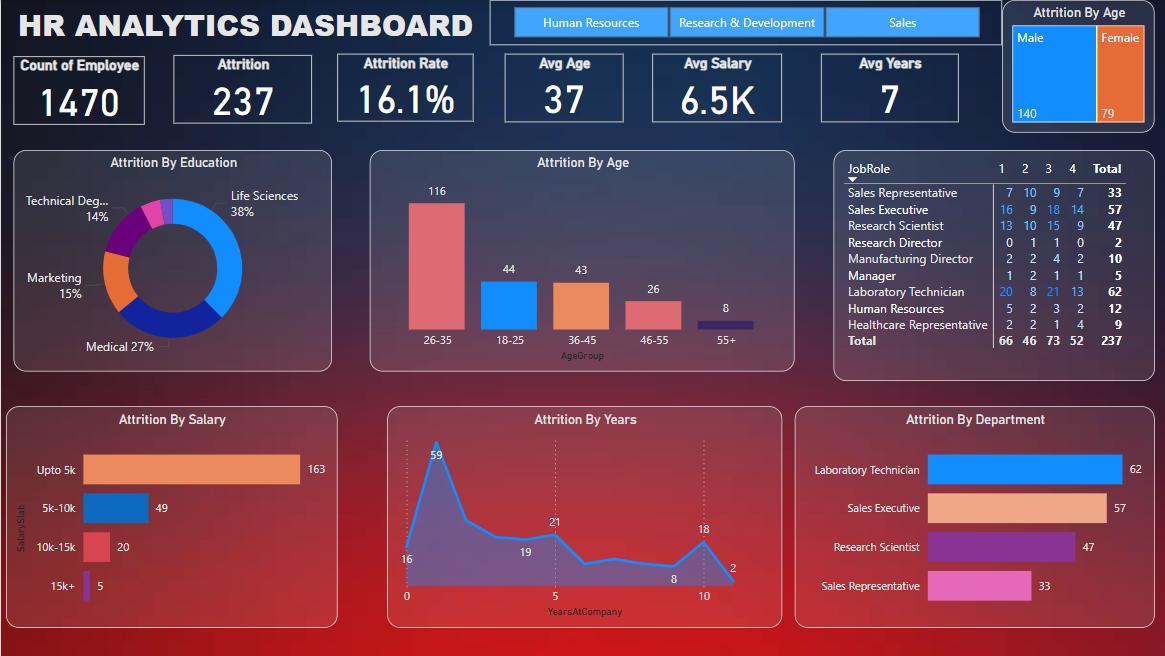

What the dashboard file says about the page in this screenshot:
{"tool":"powerbi","page":{"name":"Page 1","canvas":[1280,720],"ordinal":0},"visuals":[{"type":"card","title":"Count of Employee","fields":{"Values":["CountNonNull(HR_Analytics.EmpID)"]},"box":[13.7,61.7,144.1,75.5],"z":0},{"type":"card","title":"Attrition","fields":{"Values":["Sum(HR_Analytics.AttritionCount)"]},"box":[189.4,60.4,152.3,75.5],"z":1000},{"type":"card","title":"Attrition Rate","fields":{"Values":["HR_Analytics.AttritionRate"]},"box":[369.1,59,149.6,74.1],"z":2000},{"type":"card","title":"Avg Age","fields":{"Values":["Avg(HR_Analytics.Age)"]},"box":[553,59,130.4,75.5],"z":3000},{"type":"card","title":"Avg Salary","fields":{"Values":["Avg(HR_Analytics.MonthlyIncome)"]},"box":[714.9,59,142.7,75.5],"z":4000},{"type":"card","title":"Avg Years","fields":{"Values":["Avg(HR_Analytics.YearsAtCompany)"]},"box":[900.2,59,150.9,75.5],"z":5000},{"type":"donutChart","title":"Attrition By Education","fields":{"Category":["HR_Analytics.EducationField"],"Y":["Sum(HR_Analytics.AttritionCount)"]},"box":[13.7,164.7,349.9,242.9],"z":6000},{"type":"columnChart","title":"Attrition By Age","fields":{"Category":["HR_Analytics.AgeGroup"],"Y":["Sum(HR_Analytics.AttritionCount)"]},"box":[404.8,164.7,466.6,242.9],"z":7000},{"type":"pivotTable","fields":{"Rows":["HR_Analytics.JobRole"],"Columns":["HR_Analytics.JobSatisfaction"],"Values":["Sum(HR_Analytics.AttritionCount)"]},"box":[913.9,164.7,352.7,253.9],"z":8000},{"type":"barChart","title":"Attrition By Salary","fields":{"Category":["HR_Analytics.SalarySlab"],"Y":["Sum(HR_Analytics.AttritionCount)"]},"box":[5.5,446,363.6,242.9],"z":9000},{"type":"barChart","title":"Attrition By Department","fields":{"Y":["Sum(HR_Analytics.AttritionCount)"],"Category":["HR_Analytics.JobRole"]},"box":[871.4,446,395.2,242.9],"z":10000},{"type":"areaChart","title":"Attrition By Years","fields":{"Category":["HR_Analytics.YearsAtCompany"],"Y":["Sum(HR_Analytics.AttritionCount)"]},"box":[424,446,433.6,242.9],"z":11000},{"type":"treemap","title":"Attrition By Age","fields":{"Group":["HR_Analytics.Gender"],"Values":["Sum(HR_Analytics.AttritionCount)"]},"box":[1099.1,0,167.4,145.5],"z":12000},{"type":"slicer","fields":{"Values":["HR_Analytics.Department"]},"box":[536.5,0,562.6,49.4],"z":13000},{"type":"textbox","box":[13.7,0,539.3,60.4],"z":14000}]}

Visuals, with their boxes in screenshot pixels (x1, y1, x2, y2), scaled from the page's 1280x720 canvas onto the 1165x656 screenshot:
"Count of Employee" card: rect(12, 56, 144, 125)
"Attrition" card: rect(172, 55, 311, 124)
"Attrition Rate" card: rect(336, 54, 472, 121)
"Avg Age" card: rect(503, 54, 622, 123)
"Avg Salary" card: rect(651, 54, 781, 123)
"Avg Years" card: rect(819, 54, 957, 123)
"Attrition By Education" donutChart: rect(12, 150, 331, 371)
"Attrition By Age" columnChart: rect(368, 150, 793, 371)
pivotTable - HR_Analytics.JobRole x HR_Analytics.JobSatisfaction: rect(832, 150, 1153, 381)
"Attrition By Salary" barChart: rect(5, 406, 336, 628)
"Attrition By Department" barChart: rect(793, 406, 1153, 628)
"Attrition By Years" areaChart: rect(386, 406, 781, 628)
"Attrition By Age" treemap: rect(1000, 0, 1153, 133)
slicer - HR_Analytics.Department: rect(488, 0, 1000, 45)
textbox: rect(12, 0, 503, 55)
